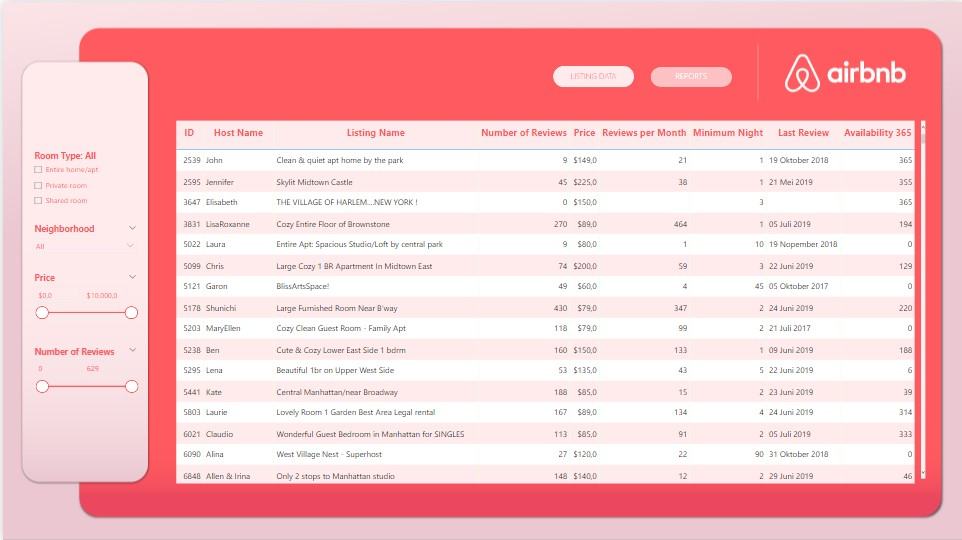

The page's visual inventory and layout, read from the dashboard file:
{"tool":"powerbi","page":{"name":"Listing Data","canvas":[1920,1080],"ordinal":0},"visuals":[{"type":"tableEx","fields":{"Values":["summary.id","hosts.host_name","summary.name","summary.number_of_reviews","summary.price","summary.reviews_per_month","summary.minimum_nights","summary.last_review.Variation.Date Hierarchy.Year","summary.availability_365"]},"box":[340,231.7,1510,735],"z":0},{"type":"actionButton","box":[1101,127.1,162.2,43.3],"z":1000},{"type":"slicer","fields":{"Values":["neighborhoods.neighbourhood"]},"box":[49.3,437.6,228,94],"z":2000},{"type":"slicer","fields":{"Values":["room_types.room_type"]},"box":[49.3,290.1,228.6,132.9],"z":3000},{"type":"slicer","fields":{"Values":["summary.price"]},"box":[49.3,535.6,228,158],"z":4000},{"type":"slicer","fields":{"Values":["summary.number_of_reviews"]},"box":[49.3,683,228.6,158.6],"z":5000},{"type":"actionButton","box":[1296,130.5,162.9,40],"z":6000}]}

Visuals, with their boxes in screenshot pixels (x1, y1, x2, y2), scaled from the page's 1920x1080 canvas onto the 962x540 screenshot:
tableEx - summary.id x hosts.host_name: [left=170, top=116, right=927, bottom=483]
actionButton: [left=552, top=64, right=633, bottom=85]
slicer - neighborhoods.neighbourhood: [left=25, top=219, right=139, bottom=266]
slicer - room_types.room_type: [left=25, top=145, right=139, bottom=212]
slicer - summary.price: [left=25, top=268, right=139, bottom=347]
slicer - summary.number_of_reviews: [left=25, top=342, right=139, bottom=421]
actionButton: [left=649, top=65, right=731, bottom=85]
